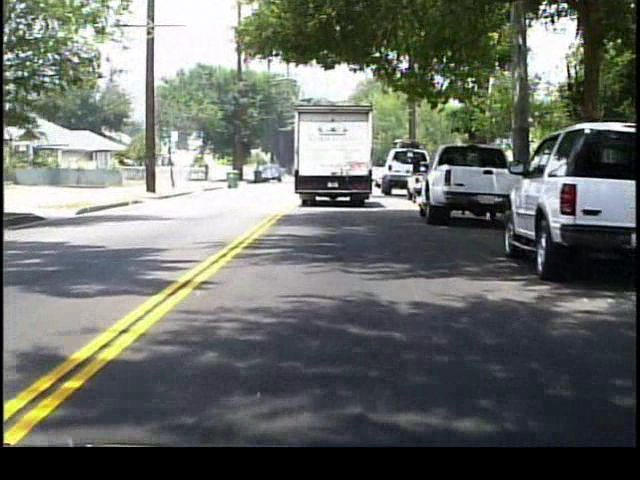person: (203, 162, 212, 184)
